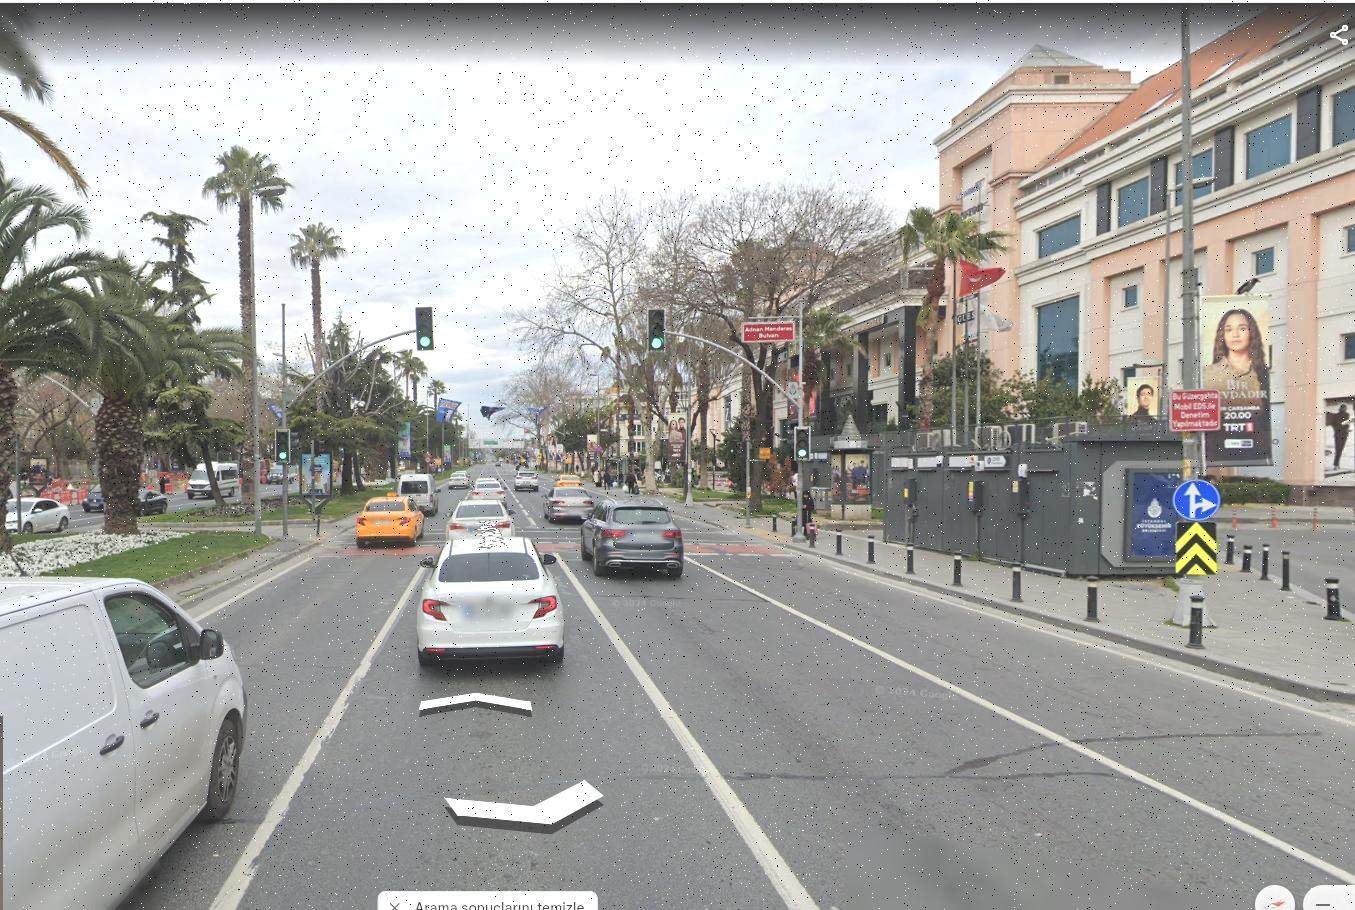greenlight: (415, 306, 434, 348), (647, 308, 663, 351), (274, 429, 289, 461), (795, 427, 809, 458)
